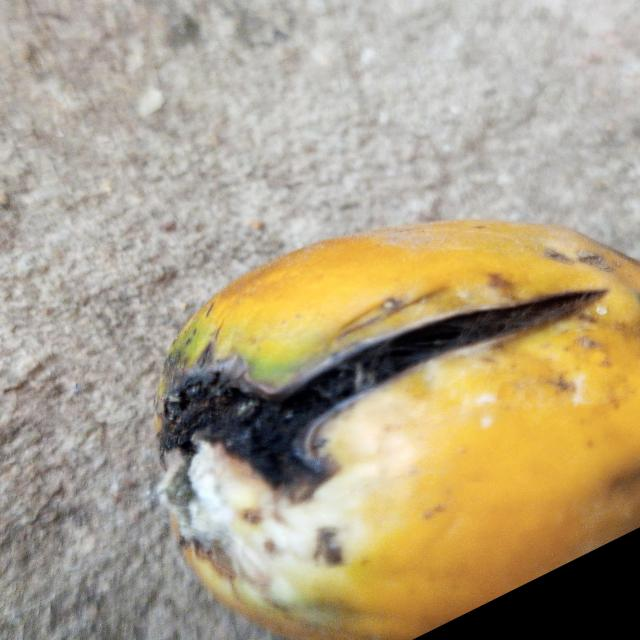damaged: (157, 220, 640, 640)
